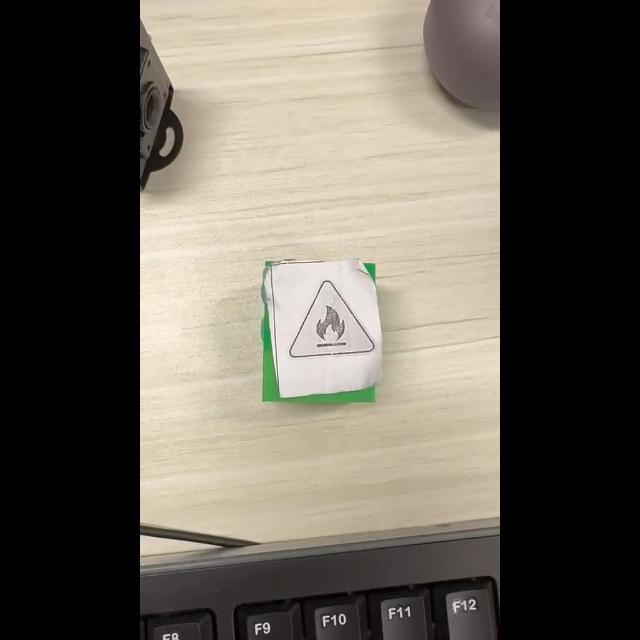Fire: (289, 280, 375, 358)
